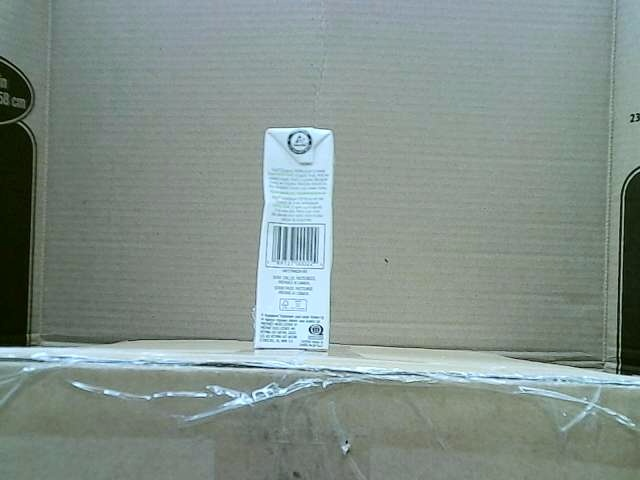JuiceBox: (252, 127, 333, 351)
